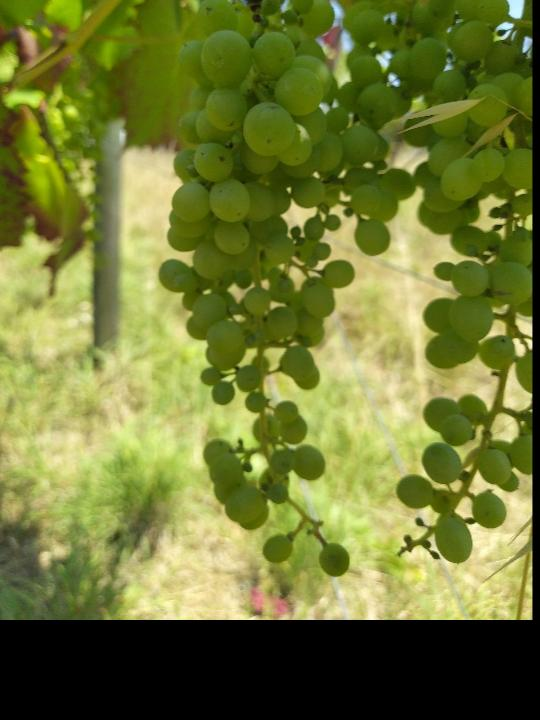grape: (155, 0, 413, 585)
